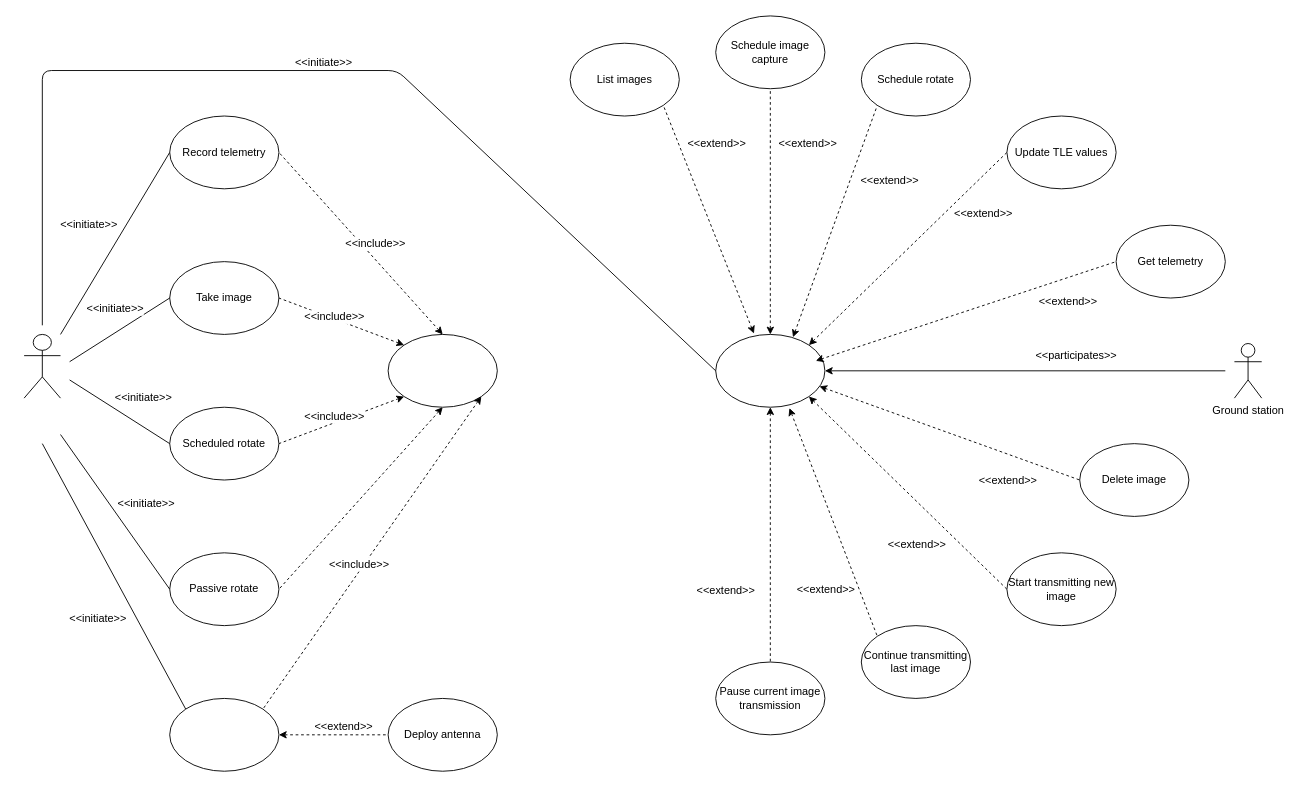
Some shapes in this 1299 by 787 pixel diagram are drawn without their labels. Here are the shapes that lost their labels. From the top down, the centre of each, then its label:
At point 42,366: "Scheduling system".
At point 442,370: "Check power level".
At point 770,370: "Check for communications".
At point 224,734: "Detumble".
